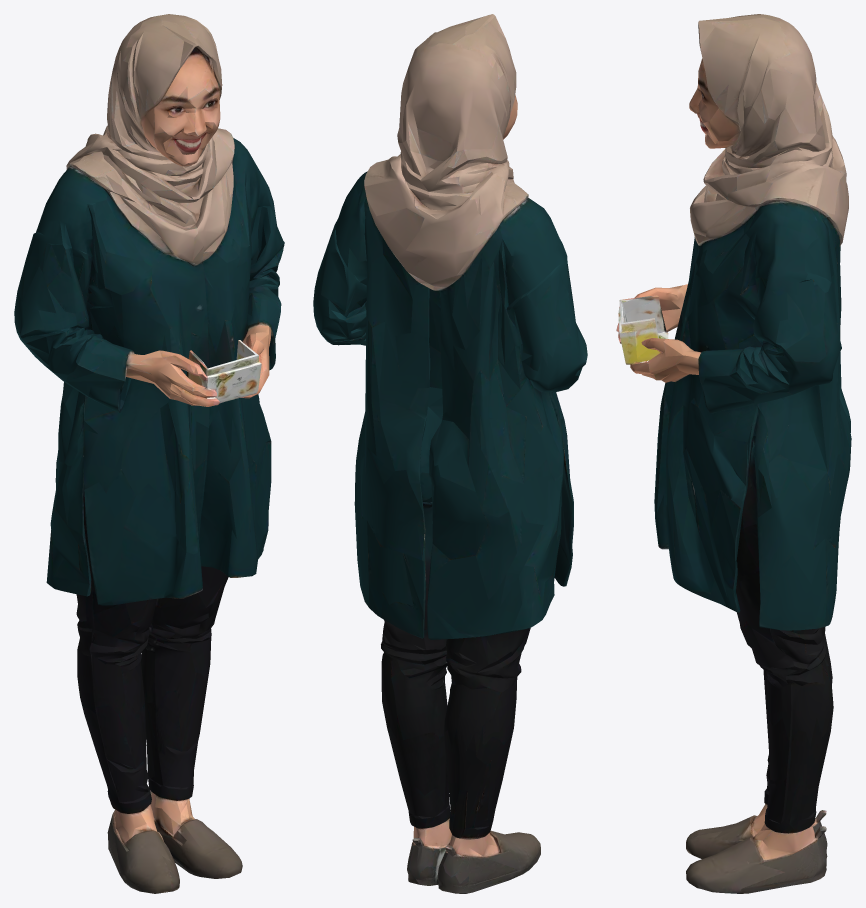
The model's file is host-wanita.glb.
3 renders of one model, left to right at view 1: azimuth 30°, elevation 25°; view 2: azimuth 150°, elevation 25°; view 3: azimuth 270°, elevation 25°, orthographic.
Size of the model in its own units: 0.6256 by 1.9 by 0.4753.
Materials: 1 (1 with a texture image).
